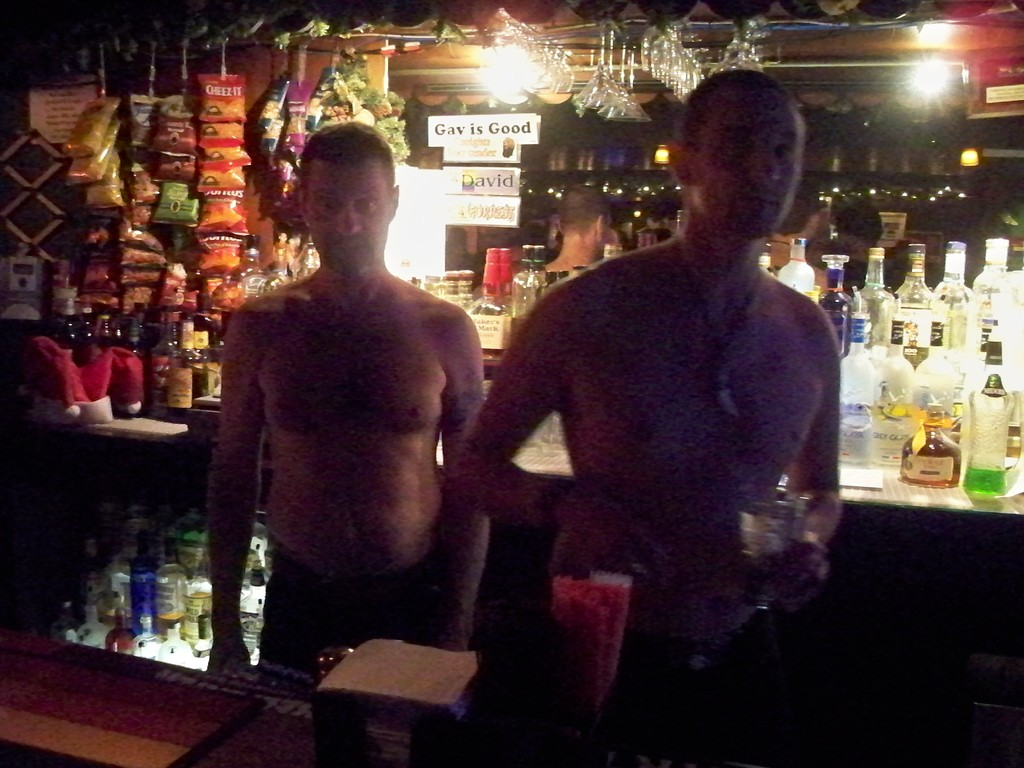Person: (530, 183, 610, 298)
